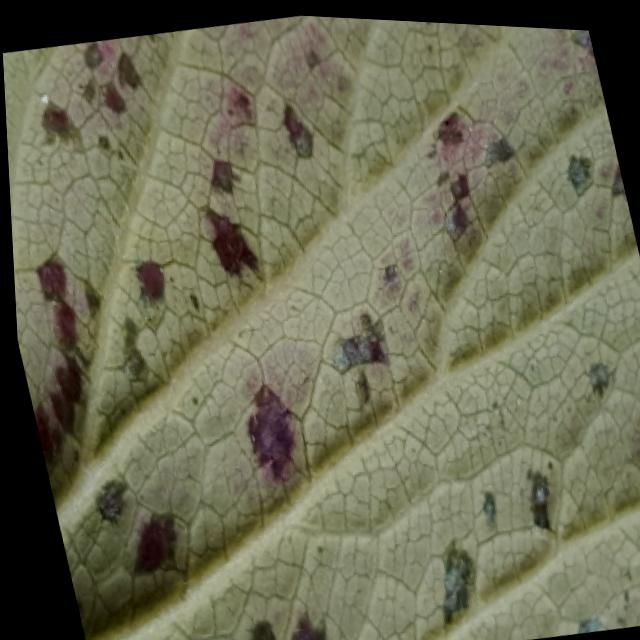Angular Leafspot: (2, 12, 640, 640)
